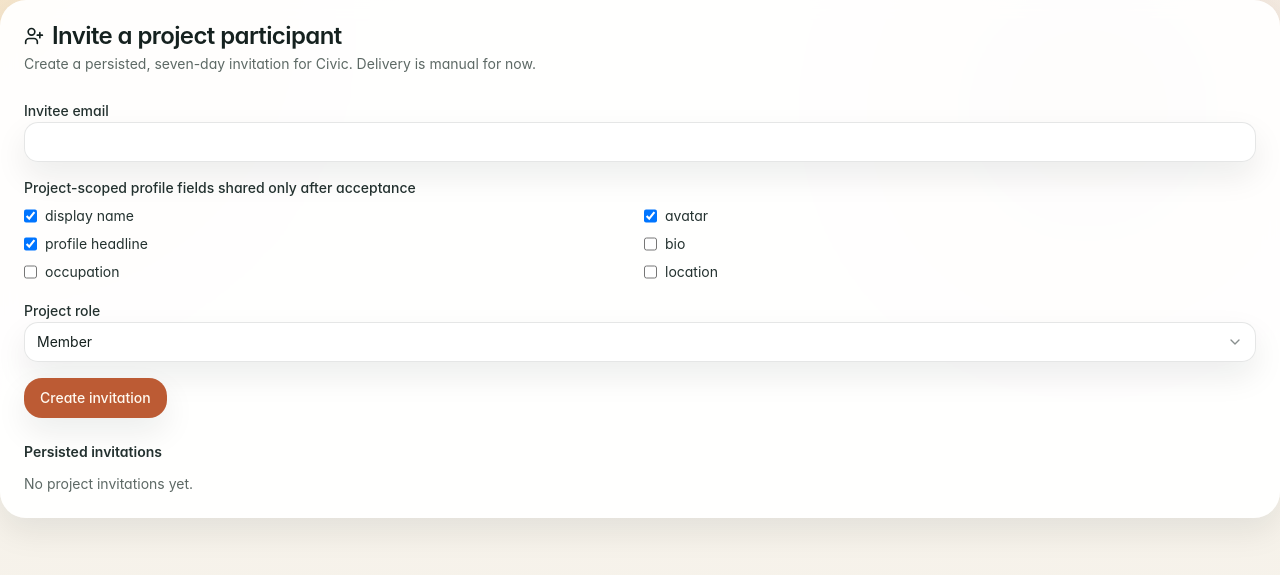
Scenario: ProjectInvitationPanel › requires at least one deduplicated shared field before submission
expect the text "No project invitations yet." is shown: met, box left=24, top=475, right=193, bottom=492
What coordinates should you click on to do the following:
click the checkbox labelled "display name"
I would click on:
 (30, 216)
Its box is left=24, top=206, right=37, bottom=226.
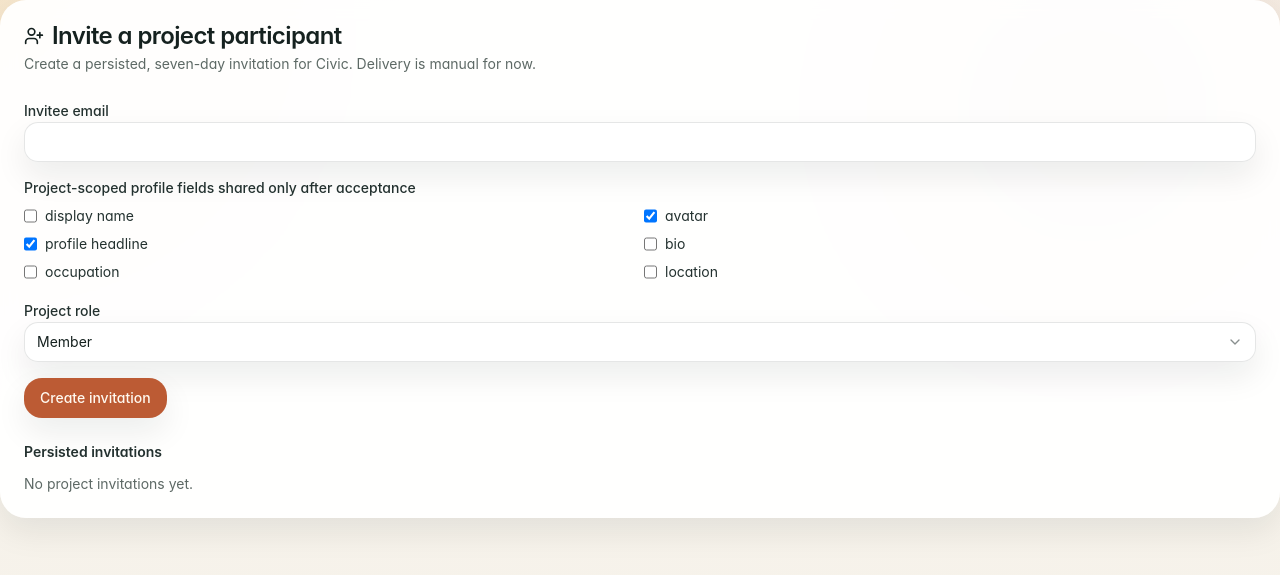
What coordinates should you click on to do the following:
click the checkbox labelled "avatar"
I would click on:
 (650, 216)
Its box is left=644, top=206, right=657, bottom=226.
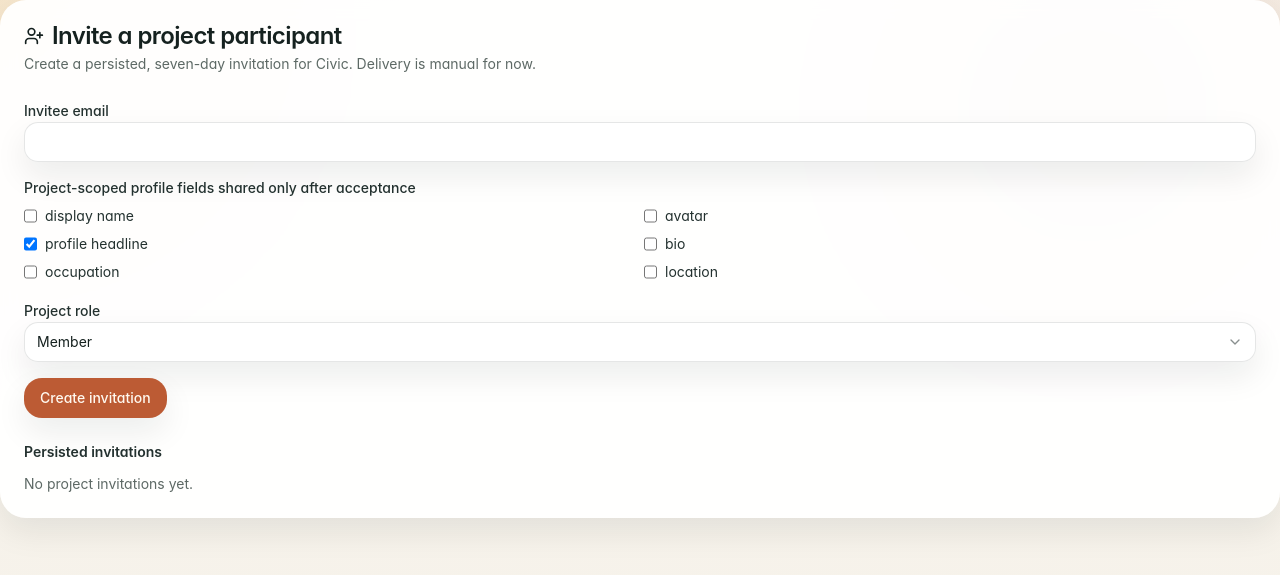
What coordinates should you click on to do the following:
click the checkbox labelled "profile headline"
I would click on:
 (30, 244)
Its box is left=24, top=234, right=37, bottom=254.
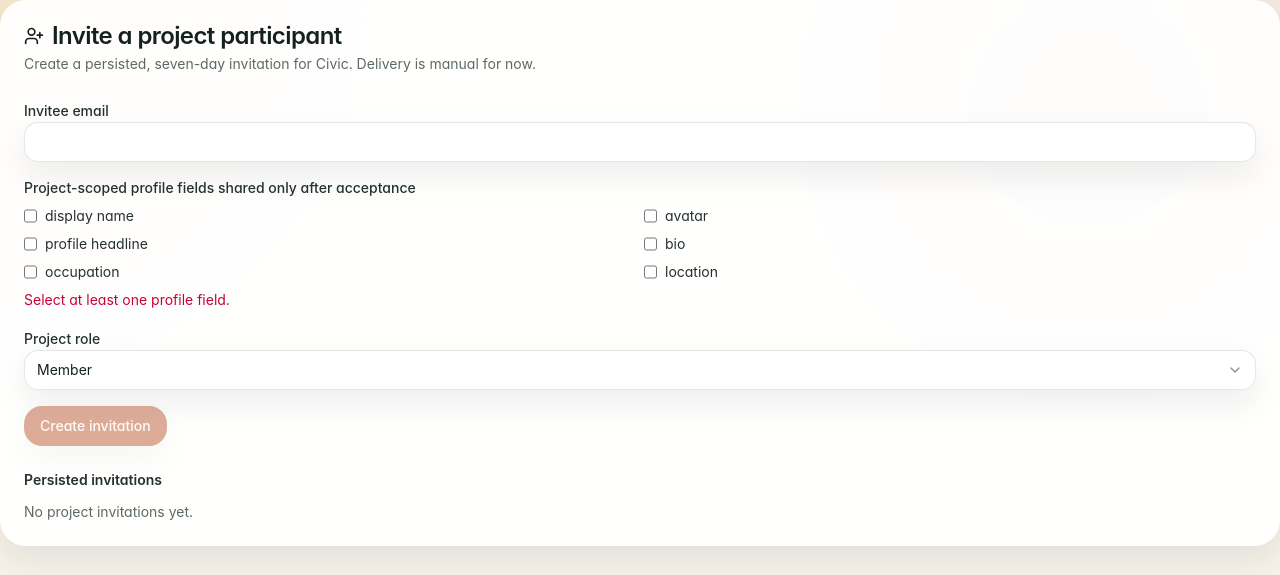
expect the text "Select at least one profile field." is shown: met, box left=24, top=291, right=230, bottom=308
expect the button "Create invitation" is disabled: met, box left=24, top=406, right=167, bottom=446
